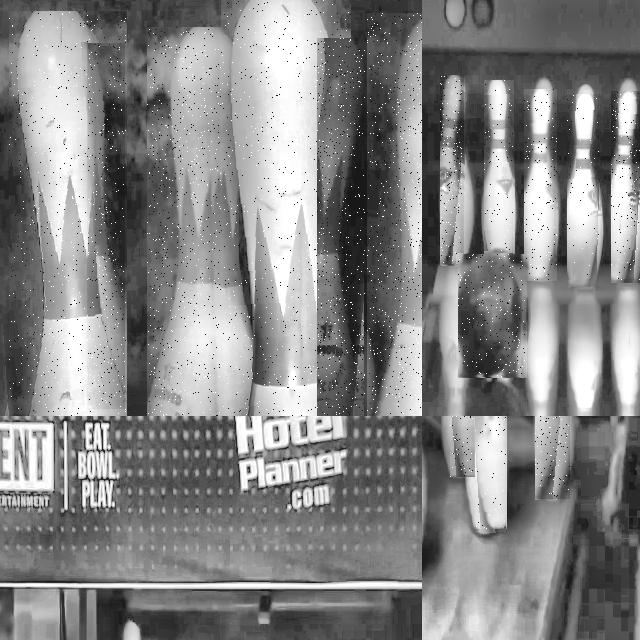bowling-ball: (459, 255, 525, 377)
bowling-pins: (18, 12, 126, 416), (232, 0, 335, 416), (150, 28, 237, 416), (318, 39, 365, 416), (379, 25, 422, 416), (89, 45, 124, 403), (567, 94, 599, 288), (525, 89, 557, 281), (611, 91, 640, 282), (485, 81, 513, 254), (441, 76, 462, 264), (476, 416, 506, 530), (535, 416, 564, 497), (451, 416, 473, 477)
